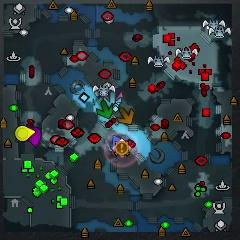Other: (116, 142, 128, 155)
p1: (112, 135, 122, 151)
p3: (28, 127, 42, 149)
p4: (15, 125, 36, 141)
x1: (100, 93, 124, 100)
x3: (104, 93, 123, 106)
x4: (97, 100, 112, 119)
x5: (119, 106, 135, 127)
